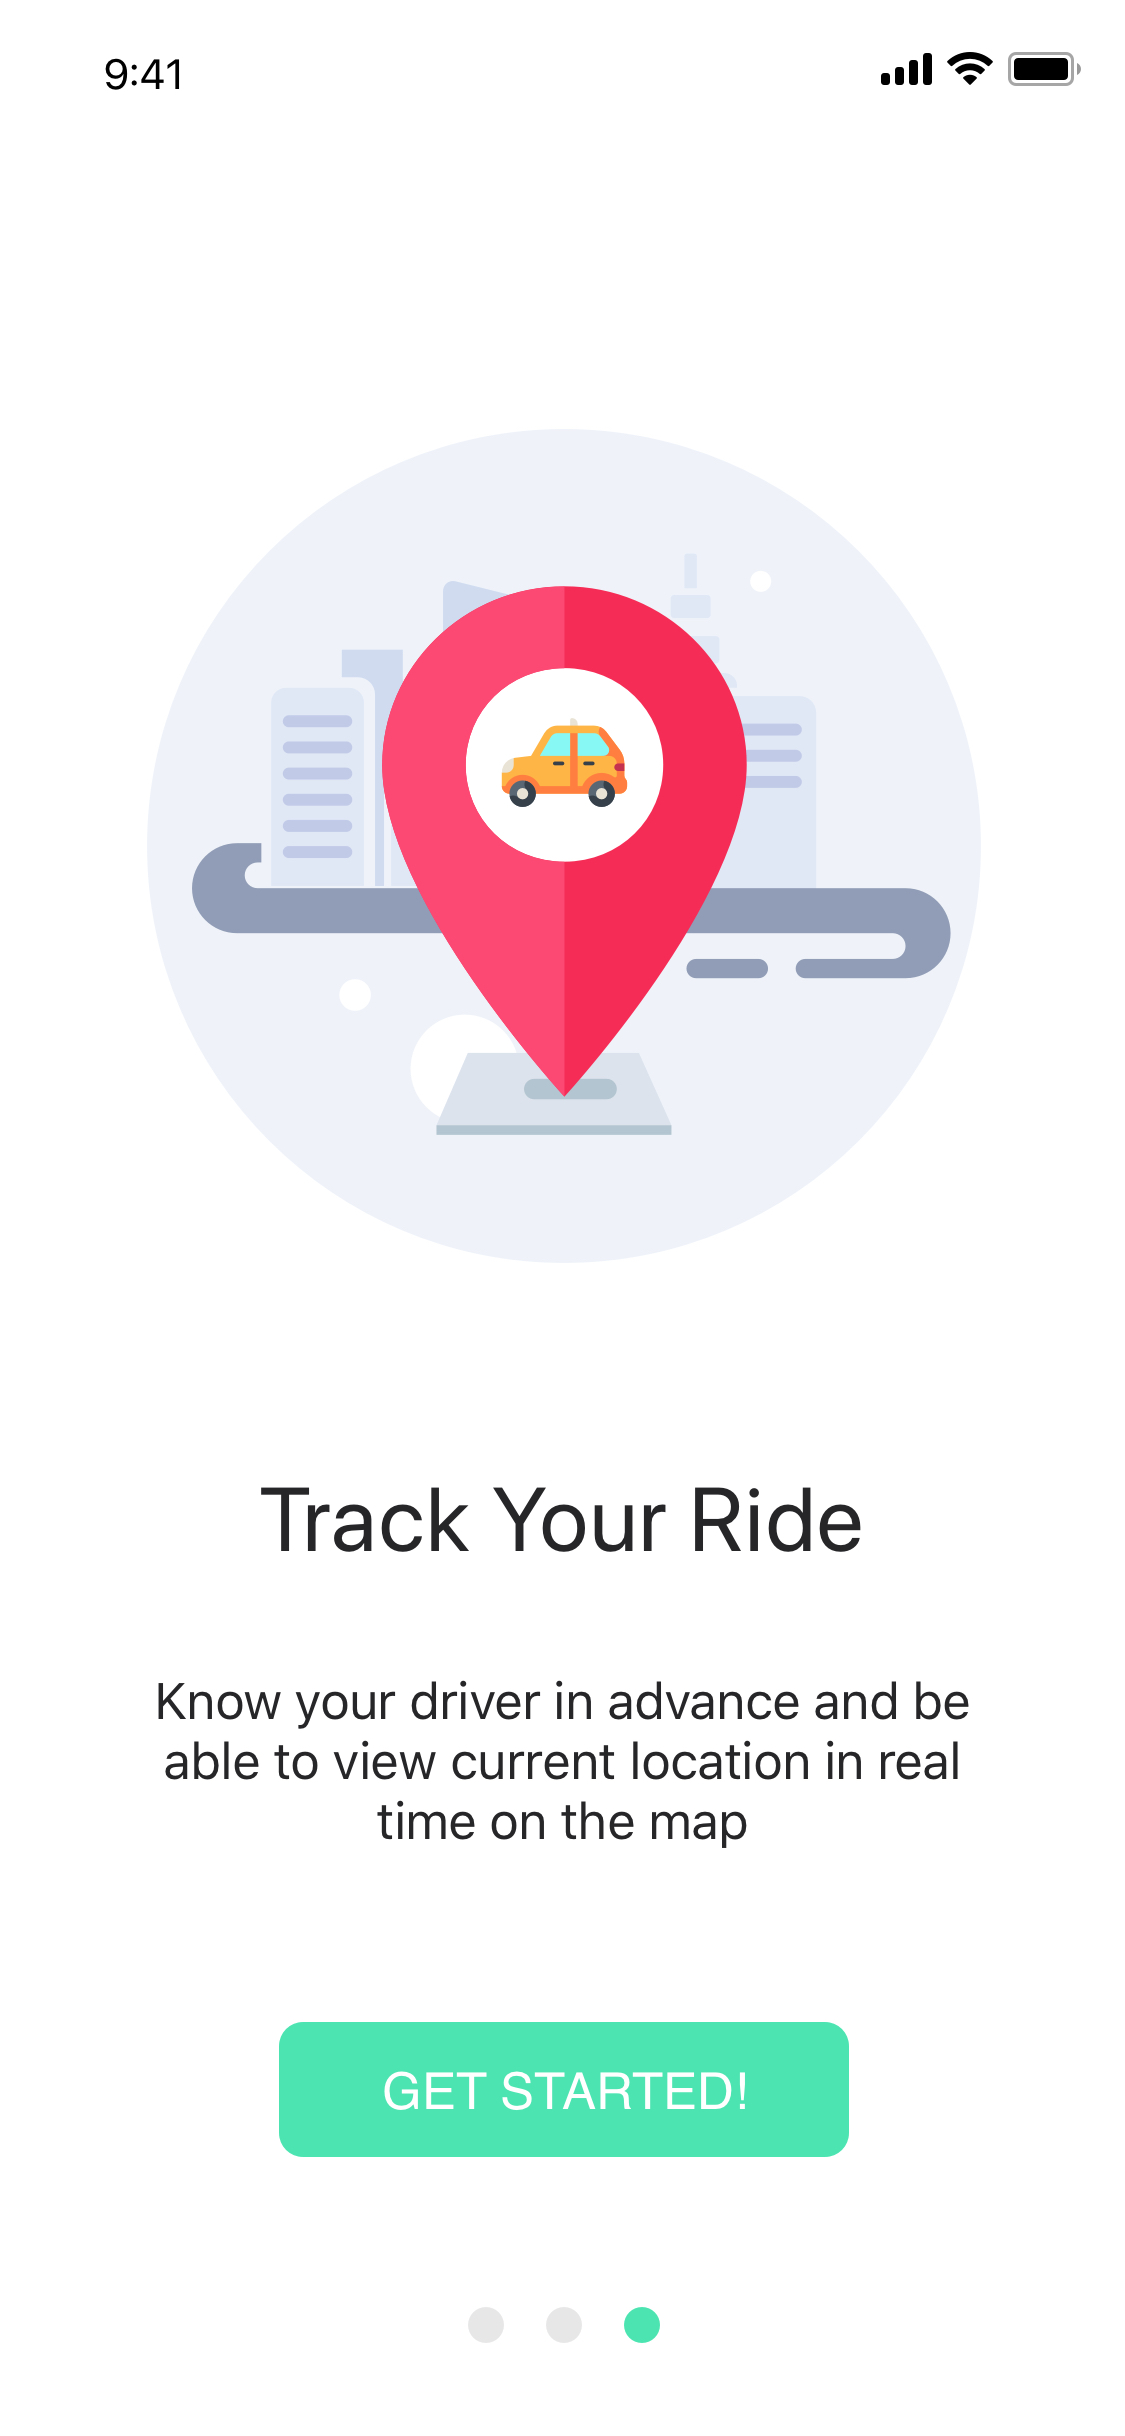Image: (146, 427, 984, 1265)
PageIndicator: (468, 2305, 662, 2344)
Text: (157, 1679, 970, 1849), (261, 1487, 862, 1554)
TextButton: (280, 2021, 850, 2158)
UpperTaskBar: (106, 51, 1081, 92)
